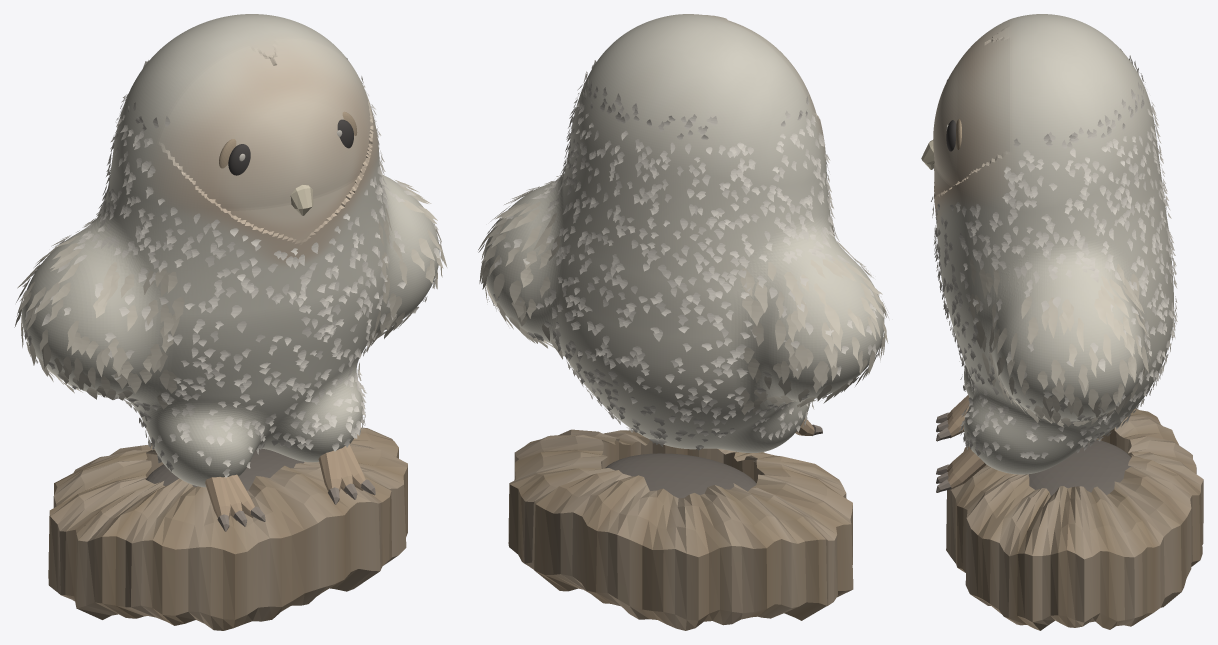
Rendered from run97_broad_NOT_APPROVED.glb.
The picture shows the model from 3 angles, left to right: view 1: azimuth 30°, elevation 25°; view 2: azimuth 150°, elevation 25°; view 3: azimuth 270°, elevation 25°; orthographic projection. The views are drawn at different scales.
Parts seen in each view (by area): view 1: continuous_juvenile_sculpt, irregular_senescent_hollow_lip, directional_body_1550_vellus_fibres, directional_wing_286_vellus_fibres, interior_hollow_shadow, toe_-1_-1, toe_1_-1; view 2: continuous_juvenile_sculpt, irregular_senescent_hollow_lip, directional_body_1550_vellus_fibres, directional_wing_286_vellus_fibres, interior_hollow_shadow; view 3: continuous_juvenile_sculpt, irregular_senescent_hollow_lip, directional_body_1550_vellus_fibres, directional_wing_286_vellus_fibres, interior_hollow_shadow, toe_1_1.
Boxes of the visible parts, x1=… form: continuous_juvenile_sculpt: x1=22, y1=14, x2=439, y2=487; irregular_senescent_hollow_lip: x1=48, y1=427, x2=407, y2=630; directional_body_1550_vellus_fibres: x1=17, y1=58, x2=442, y2=477; directional_wing_286_vellus_fibres: x1=14, y1=180, x2=447, y2=409; interior_hollow_shadow: x1=146, y1=448, x2=304, y2=490; toe_-1_-1: x1=205, y1=477, x2=230, y2=519; toe_1_-1: x1=318, y1=450, x2=341, y2=492; continuous_juvenile_sculpt: x1=483, y1=14, x2=884, y2=452; irregular_senescent_hollow_lip: x1=508, y1=429, x2=853, y2=630; directional_body_1550_vellus_fibres: x1=478, y1=60, x2=885, y2=450; directional_wing_286_vellus_fibres: x1=478, y1=186, x2=888, y2=414; interior_hollow_shadow: x1=605, y1=453, x2=756, y2=498; continuous_juvenile_sculpt: x1=933, y1=14, x2=1173, y2=474; irregular_senescent_hollow_lip: x1=946, y1=408, x2=1203, y2=630; directional_body_1550_vellus_fibres: x1=931, y1=48, x2=1177, y2=460; directional_wing_286_vellus_fibres: x1=969, y1=258, x2=1150, y2=427; interior_hollow_shadow: x1=1028, y1=439, x2=1131, y2=496; toe_1_1: x1=947, y1=450, x2=986, y2=489.
Bounding box in the file's own units: 2.53 × 3.37 × 1.57.
